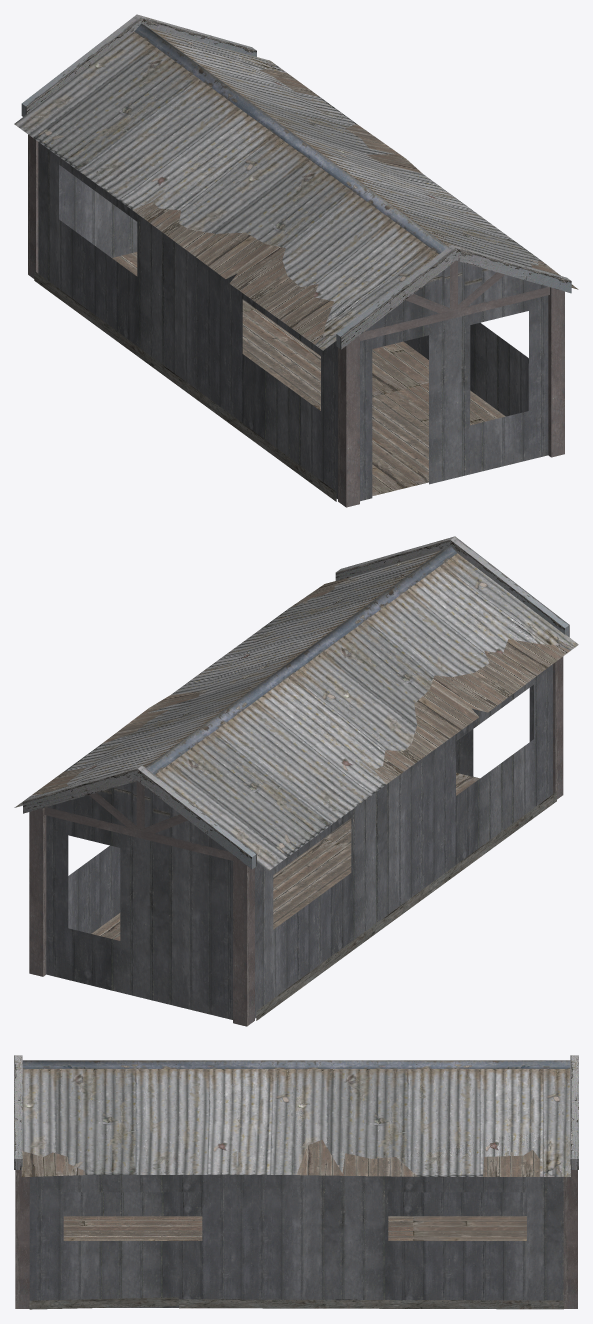
Rendered from Building_LinjgdDj002b_lod2.glb.
3 views of the same model, one above another, from view 1: azimuth 30°, elevation 25°; view 2: azimuth 150°, elevation 25°; view 3: azimuth 270°, elevation 25° (orthographic). The views are drawn at different scales.
Visible parts, largest first — view 1: bmsl_linjgd_dj002b_lod2; view 2: bmsl_linjgd_dj002b_lod2; view 3: bmsl_linjgd_dj002b_lod2.
Boxes of the visible parts, x1,y1,x2,y2 form: bmsl_linjgd_dj002b_lod2: [14, 14, 578, 507]; bmsl_linjgd_dj002b_lod2: [14, 536, 578, 1026]; bmsl_linjgd_dj002b_lod2: [14, 1055, 578, 1309].
Bounding box in the file's own units: 7.25 × 6.24 × 15.49.
Materials: 1 (1 with a texture image).
